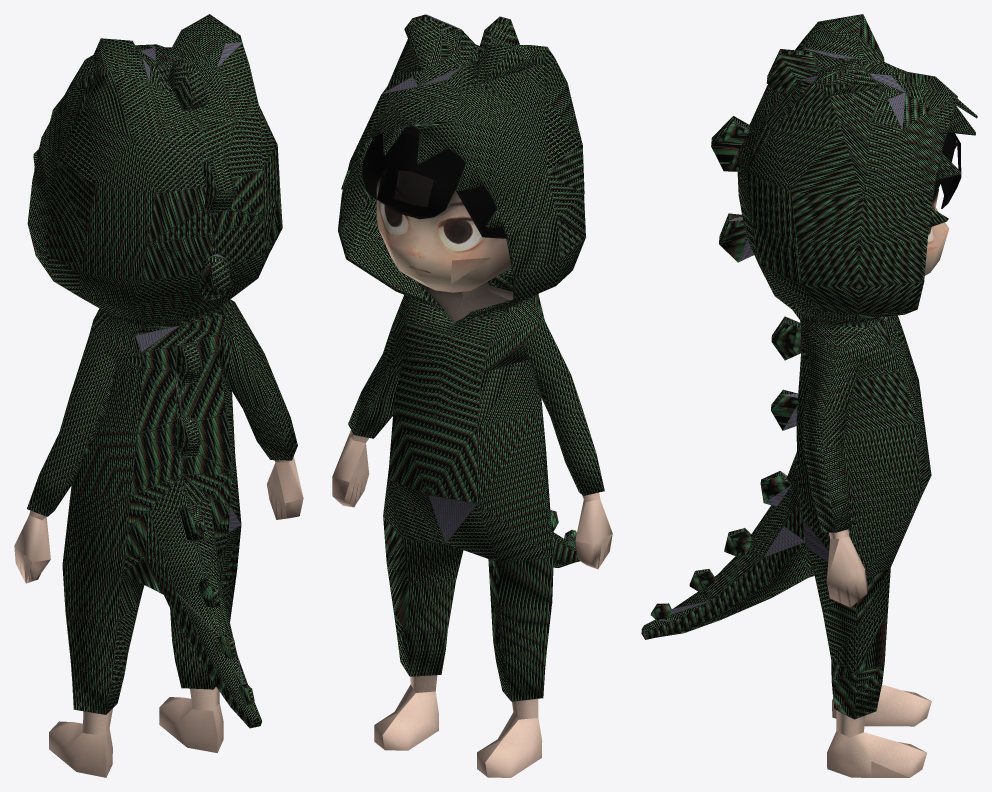
Rendered from rrr.glb.
3 views of the same model, side by side, from view 1: azimuth 30°, elevation 25°; view 2: azimuth 150°, elevation 25°; view 3: azimuth 270°, elevation 25° (orthographic). The views are drawn at different scales.
Parts seen in each view (by area): view 1: mesh_187.001, mesh_22.001, mesh_214.001, mesh_143.001, mesh_45.001; view 2: mesh_187.001, mesh_22.001, mesh_161.001, mesh_214.001, mesh_226.001, mesh_23.001, mesh_234.001; view 3: mesh_187.001, mesh_22.001, mesh_15.001, mesh_161.001, mesh_23.001.
Part boxes in pixels (left/top/right/bottom): mesh_187.001: left=27, top=14, right=297, bottom=728; mesh_22.001: left=14, top=460, right=303, bottom=777; mesh_214.001: left=34, top=31, right=250, bottom=704; mesh_143.001: left=50, top=30, right=246, bottom=704; mesh_45.001: left=54, top=33, right=246, bottom=703; mesh_187.001: left=338, top=14, right=604, bottom=701; mesh_22.001: left=332, top=170, right=612, bottom=777; mesh_161.001: left=362, top=126, right=506, bottom=238; mesh_214.001: left=341, top=32, right=585, bottom=546; mesh_226.001: left=405, top=125, right=476, bottom=543; mesh_23.001: left=376, top=216, right=612, bottom=568; mesh_234.001: left=342, top=20, right=585, bottom=546; mesh_187.001: left=641, top=14, right=977, bottom=719; mesh_22.001: left=826, top=189, right=949, bottom=777; mesh_15.001: left=665, top=49, right=957, bottom=621; mesh_161.001: left=933, top=132, right=961, bottom=208; mesh_23.001: left=826, top=247, right=937, bottom=777.
Size of the model in its own units: 25754 by 65999 by 28389.
7 materials, 7 textured.
